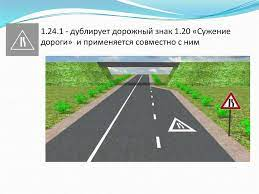1.18.2: (220, 91, 240, 110)
